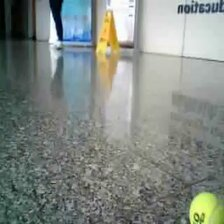tennis: (188, 192, 220, 224)
